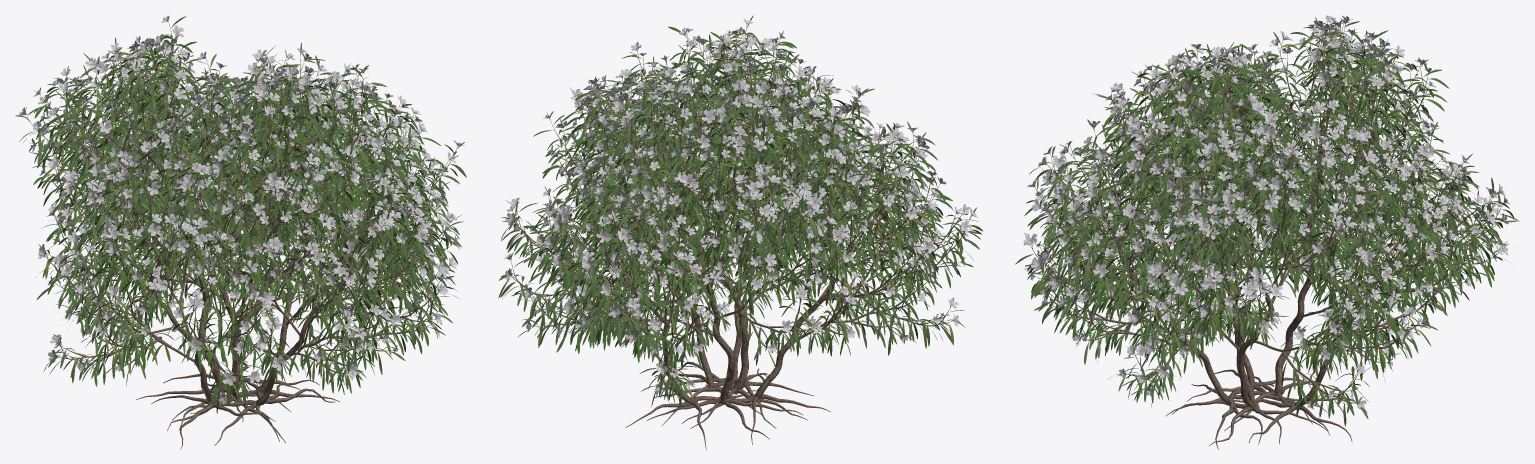
The model's file is FBX_BS09_NeriumOleander_3.fbx.
3 views of the same model, side by side, from view 1: azimuth 30°, elevation 25°; view 2: azimuth 150°, elevation 25°; view 3: azimuth 270°, elevation 25° (orthographic). The views are drawn at different scales.
Parts seen in each view (by area): view 1: Leaf01_3, Flower04_3, Bark01_3; view 2: Leaf01_3, Flower04_3, Bark01_3; view 3: Leaf01_3, Flower04_3, Bark01_3.
Part boxes in pixels (x1=…): Leaf01_3: x1=15, y1=16, x2=466, y2=413; Flower04_3: x1=19, y1=16, x2=464, y2=403; Bark01_3: x1=26, y1=22, x2=457, y2=449; Leaf01_3: x1=498, y1=15, x2=982, y2=407; Flower04_3: x1=503, y1=18, x2=977, y2=394; Bark01_3: x1=511, y1=25, x2=970, y2=449; Leaf01_3: x1=1015, y1=15, x2=1519, y2=426; Flower04_3: x1=1023, y1=15, x2=1510, y2=408; Bark01_3: x1=1030, y1=22, x2=1501, y2=449.
Size of the model in its own units: 343 by 277 by 339.
